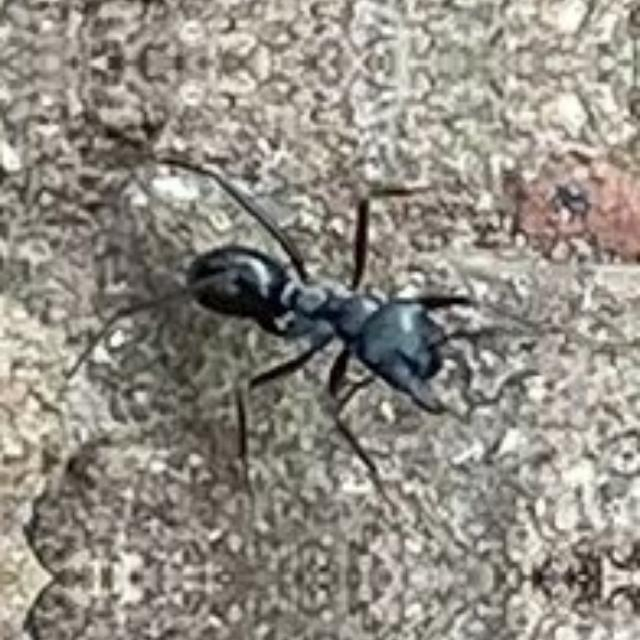Cataglyphis: (144, 204, 546, 456)
